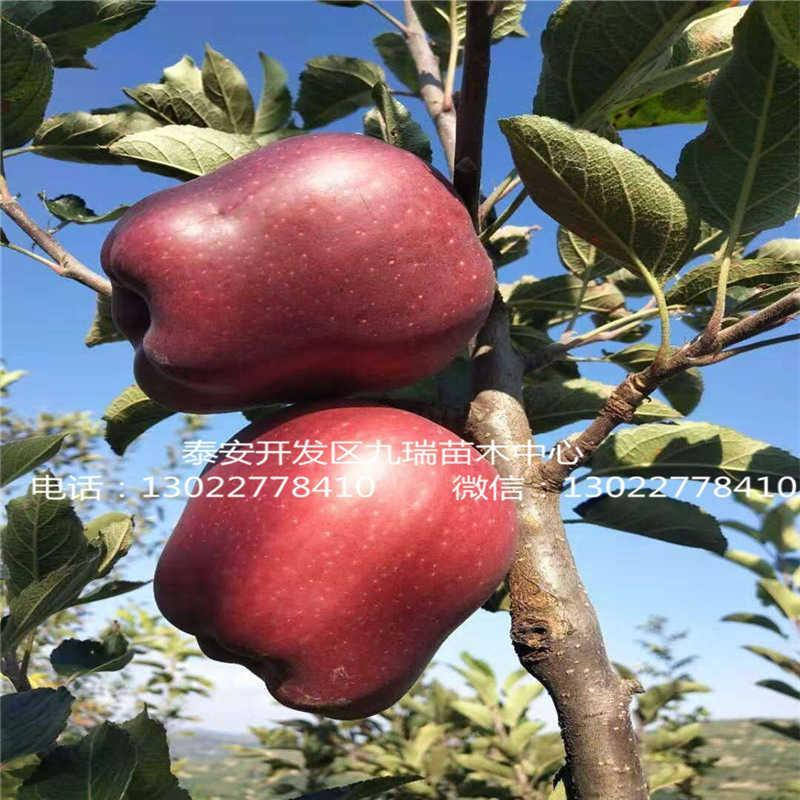apple: (155, 406, 522, 717), (108, 129, 499, 419)
